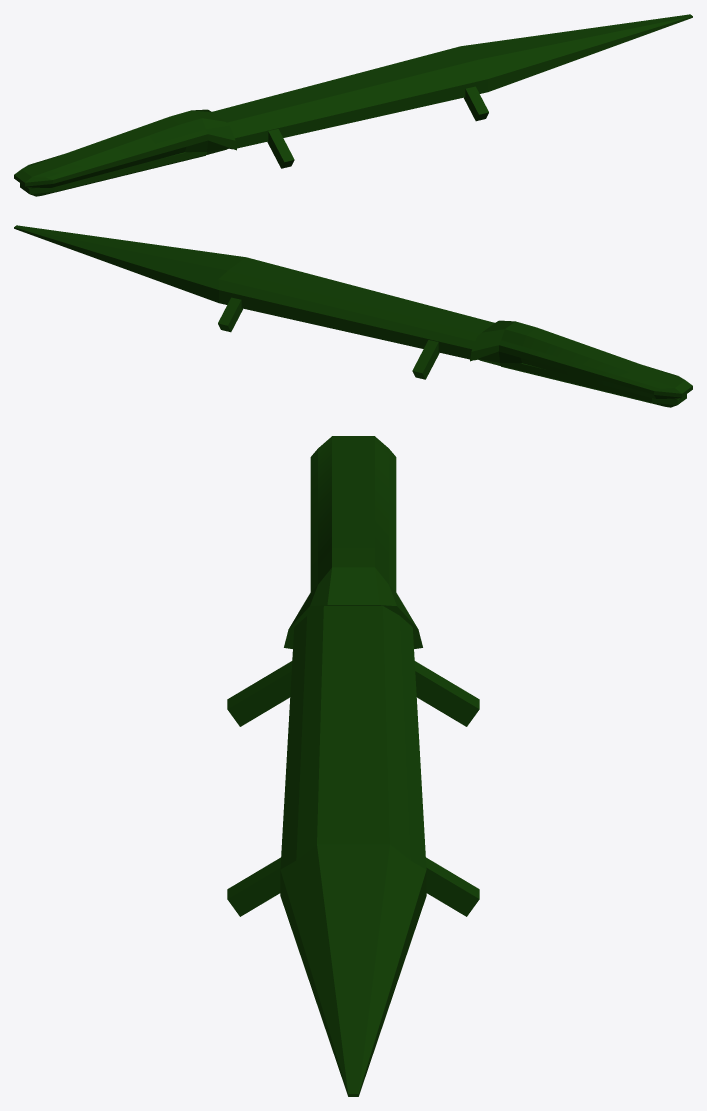
File: Alligator.gltf
The picture shows the model from 3 angles, top to bottom: view 1: azimuth 30°, elevation 25°; view 2: azimuth 150°, elevation 25°; view 3: azimuth 270°, elevation 25°; orthographic projection. The views are drawn at different scales.
Visible parts, largest first — view 1: Body, Plane, Plane.001, Cube.001, Cube.002; view 2: Body, Plane, Plane.001, Cube, Cube.003; view 3: Body, Plane, Cube, Cube.001, Cube.002, Cube.003.
Boxes of the visible parts, x1=… form: Body: x1=212, y1=14, x2=692, y2=149; Plane: x1=14, y1=109, x2=236, y2=187; Plane.001: x1=20, y1=152, x2=206, y2=196; Cube.001: x1=267, y1=129, x2=294, y2=168; Cube.002: x1=464, y1=86, x2=488, y2=121; Body: x1=14, y1=225, x2=494, y2=360; Plane: x1=470, y1=320, x2=692, y2=398; Plane.001: x1=500, y1=363, x2=686, y2=407; Cube: x1=412, y1=340, x2=439, y2=379; Cube.003: x1=218, y1=297, x2=242, y2=332; Body: x1=280, y1=606, x2=426, y2=1096; Plane: x1=284, y1=436, x2=422, y2=648; Cube: x1=414, y1=661, x2=479, y2=726; Cube.001: x1=227, y1=661, x2=292, y2=726; Cube.002: x1=227, y1=857, x2=280, y2=916; Cube.003: x1=426, y1=857, x2=479, y2=916.
Bounding box in the file's own units: 35.69 × 2.41 × 5.8.
